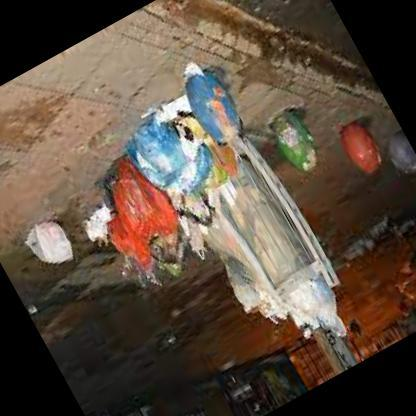Garbage: (59, 88, 246, 300), (188, 200, 278, 324), (84, 162, 185, 272), (118, 101, 199, 192), (273, 277, 352, 356), (20, 209, 88, 287), (169, 165, 224, 233), (152, 219, 203, 272)
